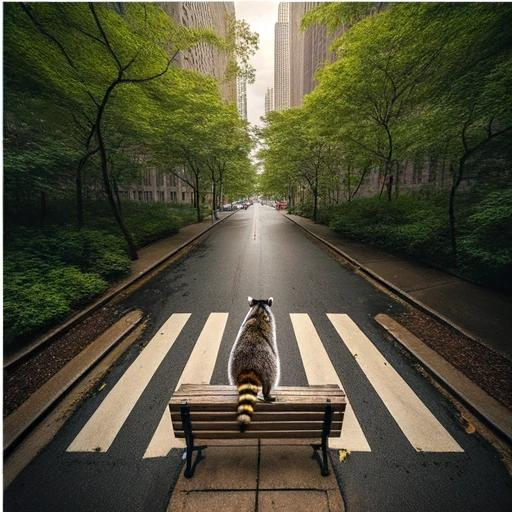raccoon: (223, 290, 288, 442)
